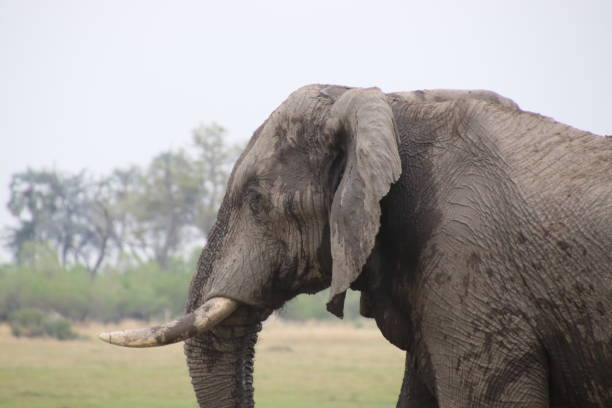africanelephant: (71, 65, 391, 364)
